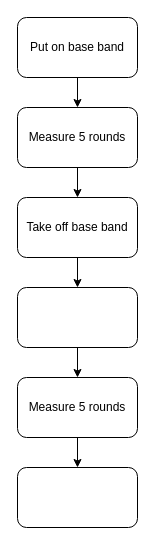
Image size: 155x545. Some labels were removed from this diagram. Each missing label, with the centre of its shape:
Change factor Put on band: [77,317]
Take off band: [77,497]
